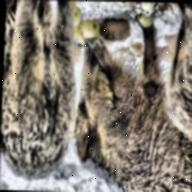boar: (72, 37, 192, 192)
